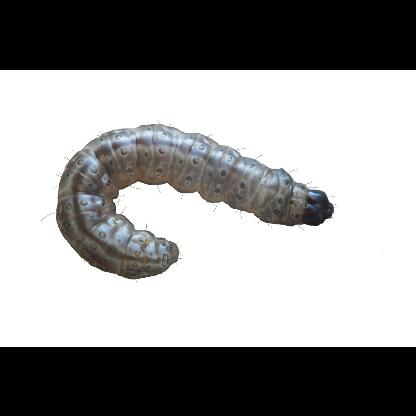Asian Corn Borer Larvae: (38, 116, 338, 286)
